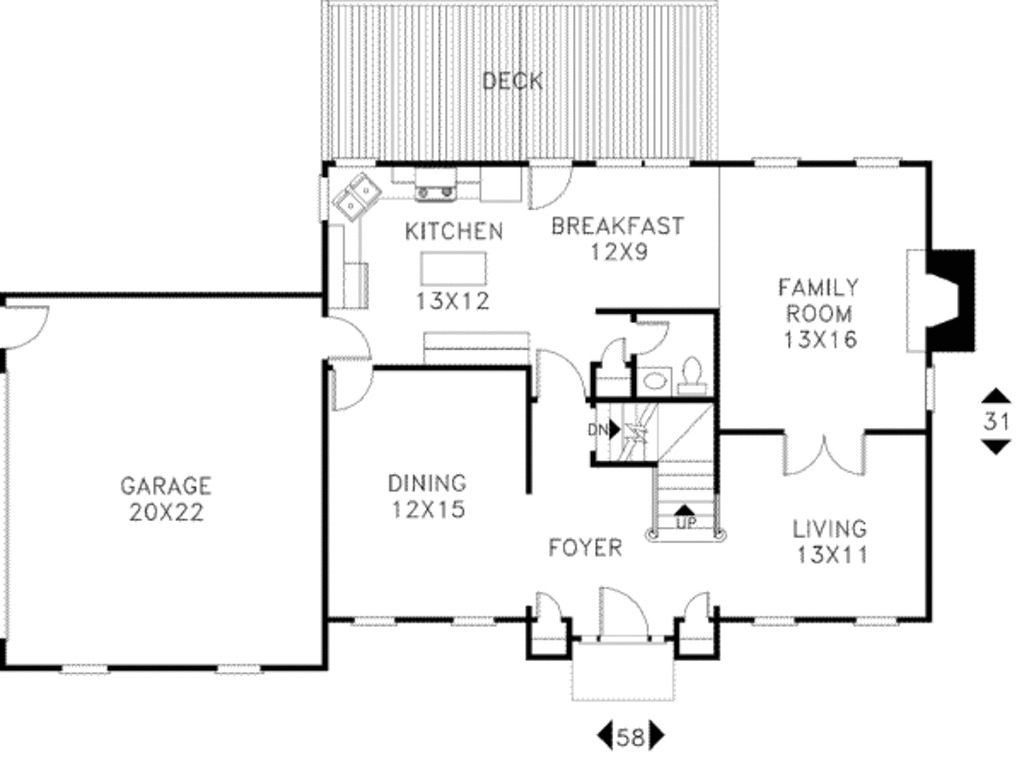door: (781, 429, 867, 481), (592, 582, 649, 646), (531, 348, 589, 407), (319, 310, 373, 363), (526, 158, 578, 210), (4, 303, 56, 354), (328, 366, 373, 413), (629, 319, 668, 354), (528, 587, 562, 621), (598, 335, 629, 371), (681, 588, 713, 619)
large_sink: (676, 348, 709, 396)
small_sink: (638, 365, 672, 398)
stairs: (583, 403, 726, 548)
twin_sink: (330, 173, 384, 222)
windows: (845, 611, 902, 630), (739, 155, 801, 172), (845, 153, 900, 171), (57, 659, 112, 677), (214, 658, 264, 677), (746, 615, 801, 628)
